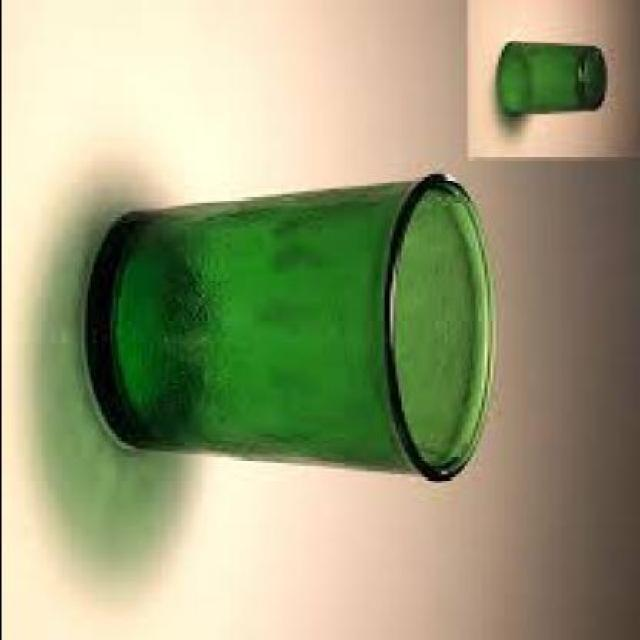GLASS: (82, 169, 498, 480), (498, 37, 608, 114)
